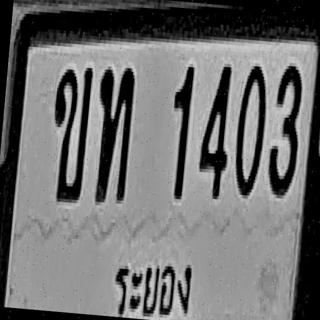A02: (47, 64, 93, 202)
A23: (90, 64, 136, 202)
N00: (232, 62, 268, 196)
N01: (166, 64, 194, 198)
N03: (266, 62, 304, 196)
N04: (196, 62, 235, 196)
P53: (108, 245, 196, 320)
